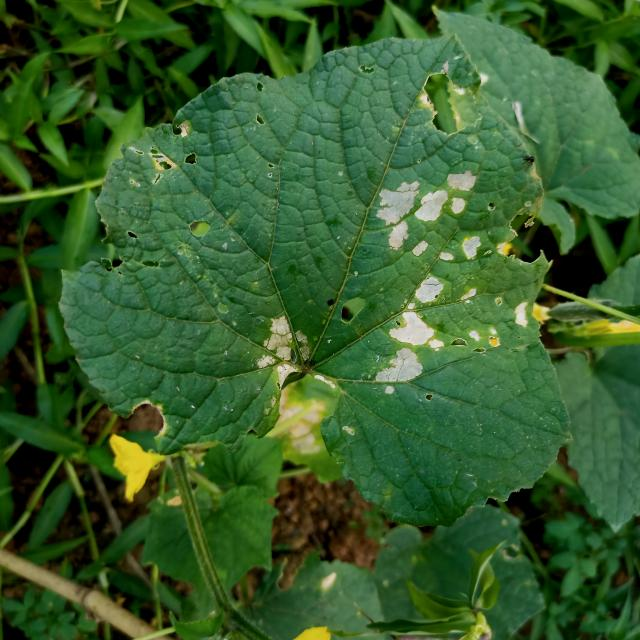disease_cucumber: (366, 270, 539, 401), (351, 151, 491, 267), (246, 301, 316, 400)
